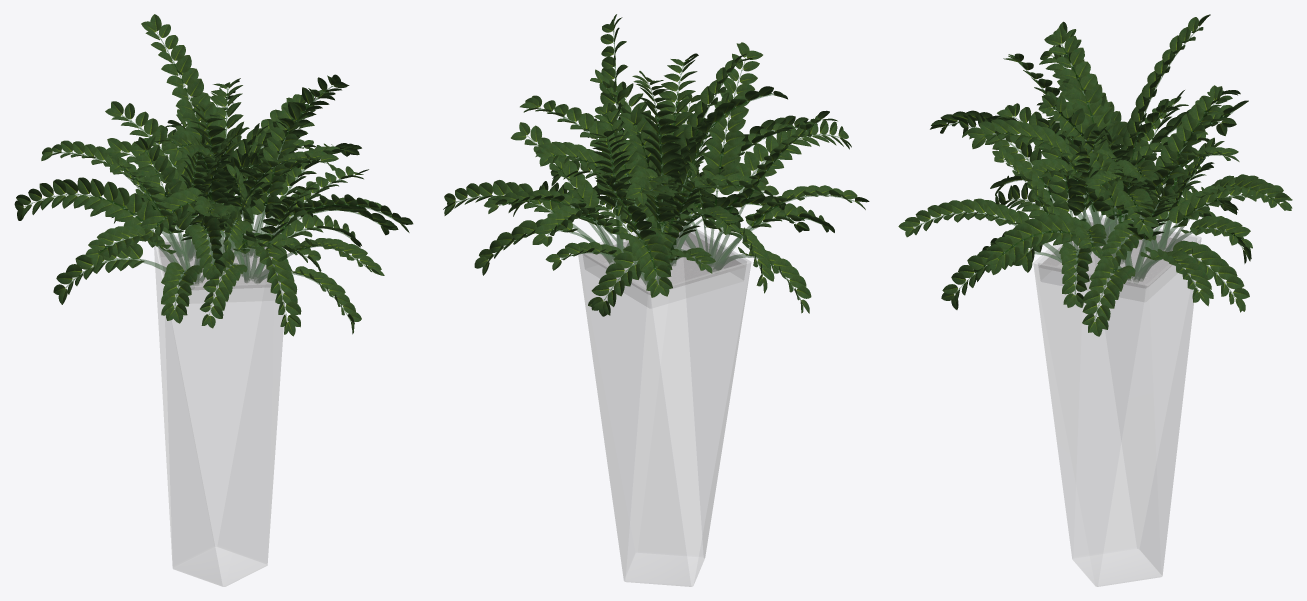
Rendered from plant.glb.
The picture shows the model from 3 angles, left to right: view 1: azimuth 30°, elevation 25°; view 2: azimuth 150°, elevation 25°; view 3: azimuth 270°, elevation 25°; orthographic projection. The views are drawn at different scales.
Parts seen in each view (by area): view 1: cordyline_glauca; view 2: cordyline_glauca; view 3: cordyline_glauca.
Part boxes in pixels (<box>): cordyline_glauca: <box>14,14,413,586</box>; cordyline_glauca: <box>443,14,869,586</box>; cordyline_glauca: <box>898,14,1292,586</box>.
Bounding box in the file's own units: 0.842 × 1.22 × 0.8019.
Materials: 4 (2 with a texture image).
